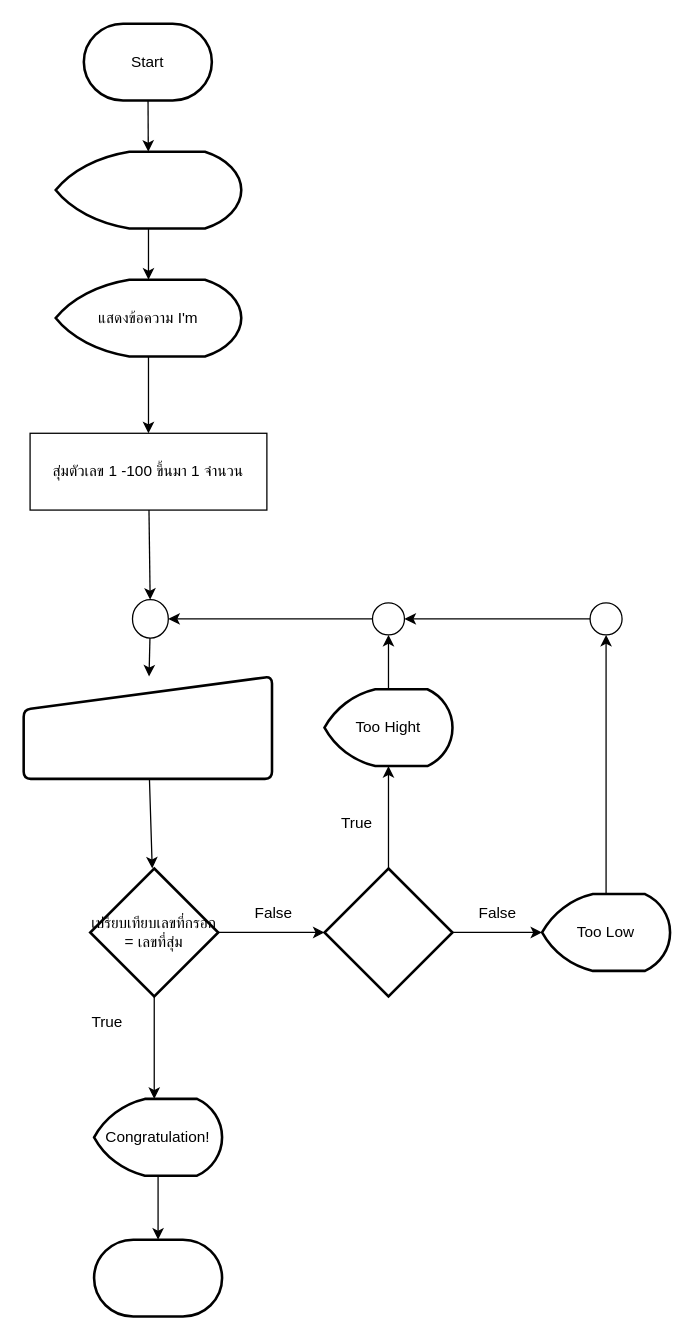
Image size: 692x1339. Some labels were removed from this diagram. Here are the shapes that lost their labels. From the top down, the centre of each, then its label:
At (x=148, y=189): "แสดงข้อความ Welcome !".
At (x=147, y=727): "รับค่าตัวเลขจากแป้นพิมพื".
At (x=388, y=932): "เลขที่กรอก > เลขที่สุ่ม".
At (x=157, y=1277): "End".
